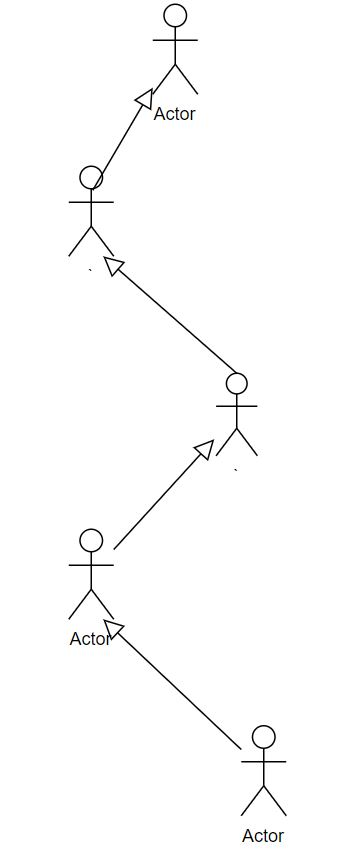actor: (236, 725, 287, 816), (150, 2, 199, 96), (66, 528, 115, 620), (65, 165, 114, 256), (215, 372, 260, 458)
generalization: (103, 619, 241, 749), (100, 257, 234, 371), (114, 440, 214, 550), (94, 89, 153, 187)
text: (240, 821, 286, 850), (66, 627, 118, 651), (148, 99, 197, 124)
